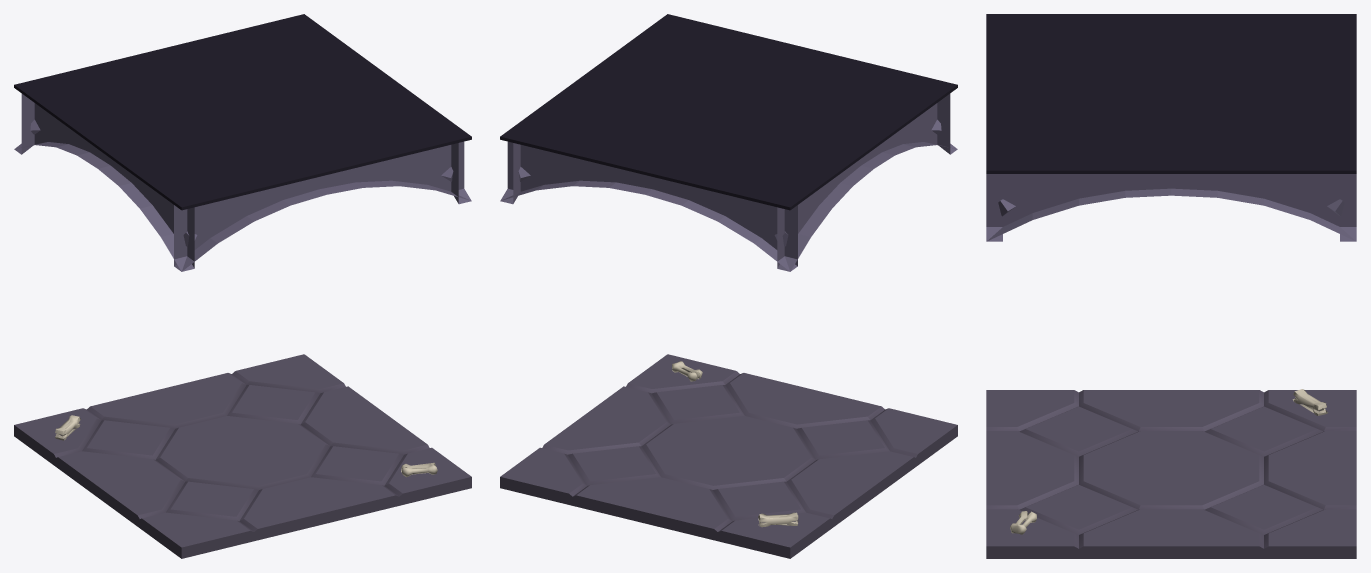
The model's file is floor_a.fbx.
3 renders of one model, left to right at view 1: azimuth 30°, elevation 25°; view 2: azimuth 150°, elevation 25°; view 3: azimuth 270°, elevation 25°, orthographic. The views are drawn at different scales.
Visible parts, largest first — view 1: Ceiling, floor_a; view 2: Ceiling, floor_a; view 3: Ceiling, floor_a.
Part boxes in pixels (x1,y1,x2,y2): Ceiling: (14, 14, 471, 271); floor_a: (14, 354, 471, 558); Ceiling: (500, 14, 957, 271); floor_a: (500, 354, 957, 558); Ceiling: (986, 14, 1356, 241); floor_a: (986, 389, 1356, 558).
Size of the model in its own units: 4 by 4.63 by 4.
